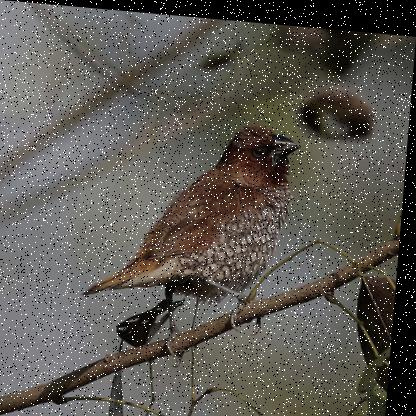Burung: (82, 109, 304, 369)
